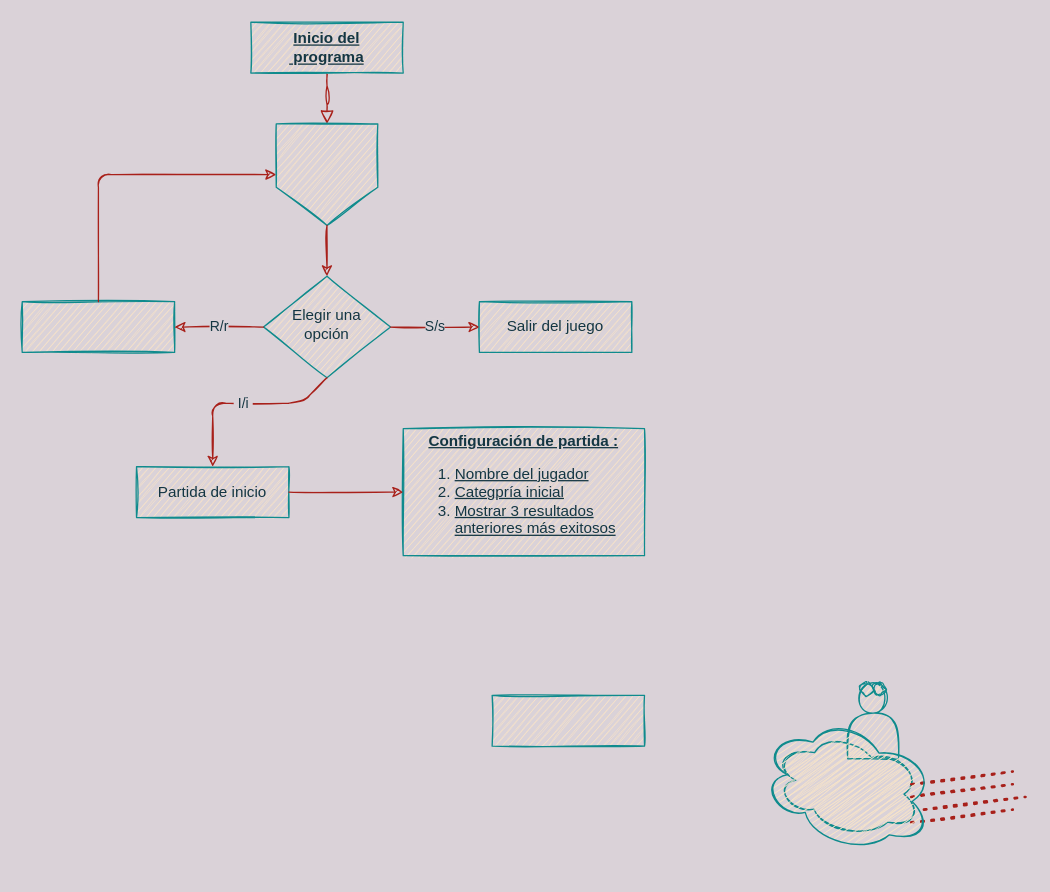
Image size: 1050x892. Some labels were removed from this diagram. The shapes that lost their labels are listed below. From the top down, each one's centre as x and y in pixels, then its label:
(x=326, y=174): Menú
(x=98, y=326): Reglas
(x=568, y=720): Repair Lamp
